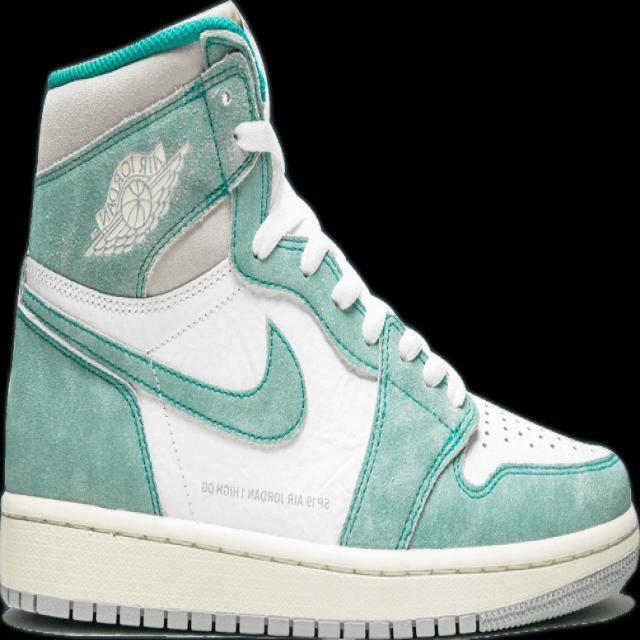J1_InsoleChar: (1, 1, 637, 638)
J1_ShoeLogo: (81, 137, 191, 258), (198, 479, 332, 512)
J1_StitchPattern: (1, 495, 637, 637), (253, 223, 600, 464), (16, 254, 307, 446), (2, 568, 636, 638), (267, 229, 466, 408), (15, 288, 165, 514), (19, 253, 239, 319), (139, 282, 244, 360), (470, 393, 590, 458), (476, 401, 541, 451)
